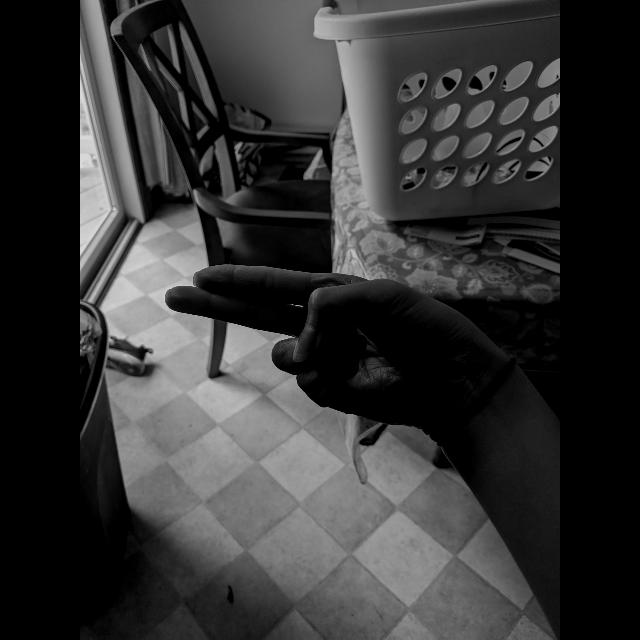H: (160, 258, 500, 434)
